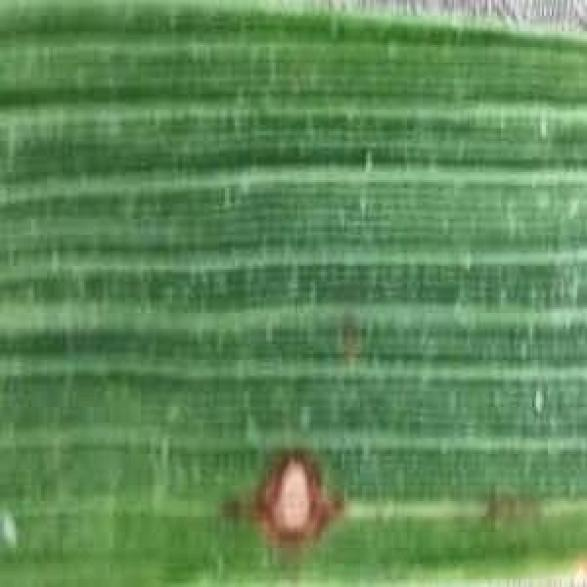Leaf_smut: (192, 434, 397, 585)
